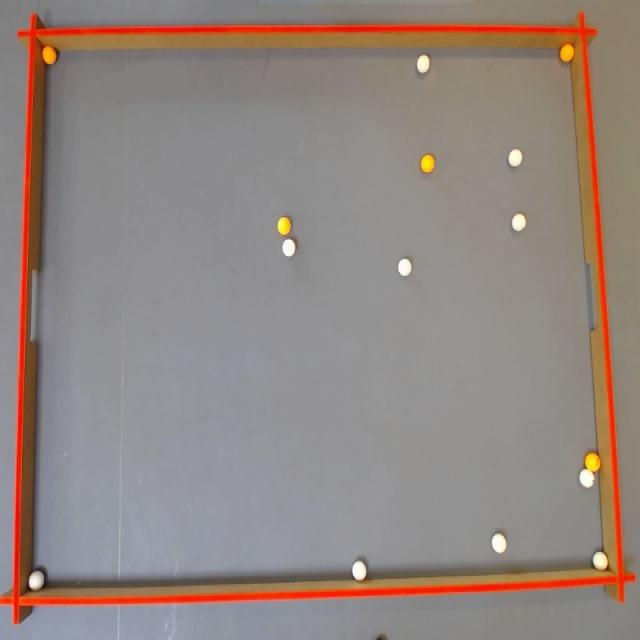orange_ball: (584, 452, 600, 472), (560, 43, 574, 62), (42, 46, 56, 64), (421, 154, 435, 172), (278, 217, 290, 234)
white_ball: (28, 570, 45, 591), (592, 551, 608, 571), (492, 532, 506, 554), (579, 469, 595, 488), (352, 560, 366, 581), (508, 149, 523, 167), (512, 213, 526, 232), (416, 54, 429, 74), (282, 238, 296, 256), (398, 258, 411, 276)
